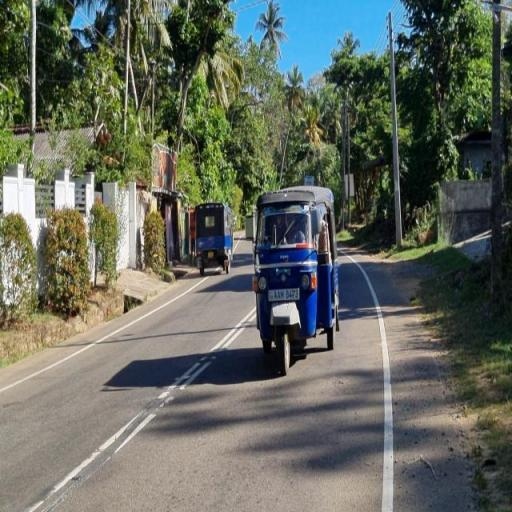double_white_line: (23, 308, 257, 510)
